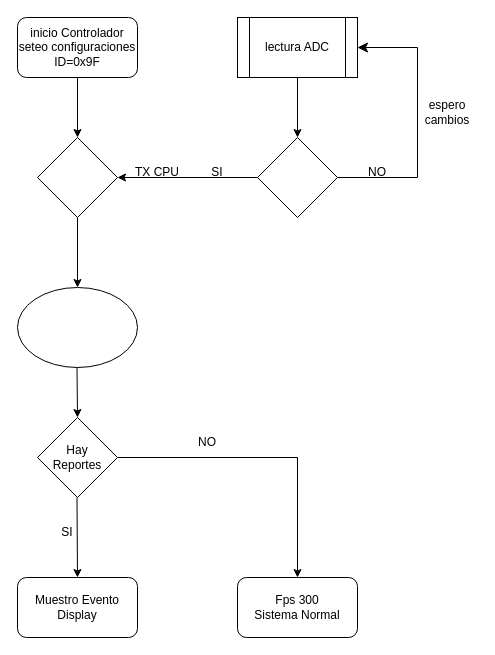
Image size: 495x655. Some labels were removed from this diagram. The shapes that lost their labels are listed below. From the top down, each one's box as (x1, y1, x2, y2) in pixels, then its label:
(36, 136, 118, 218): destino origen
(256, 136, 338, 218): hay cambios ADC
(16, 286, 138, 368): CPU ID=0xC9
